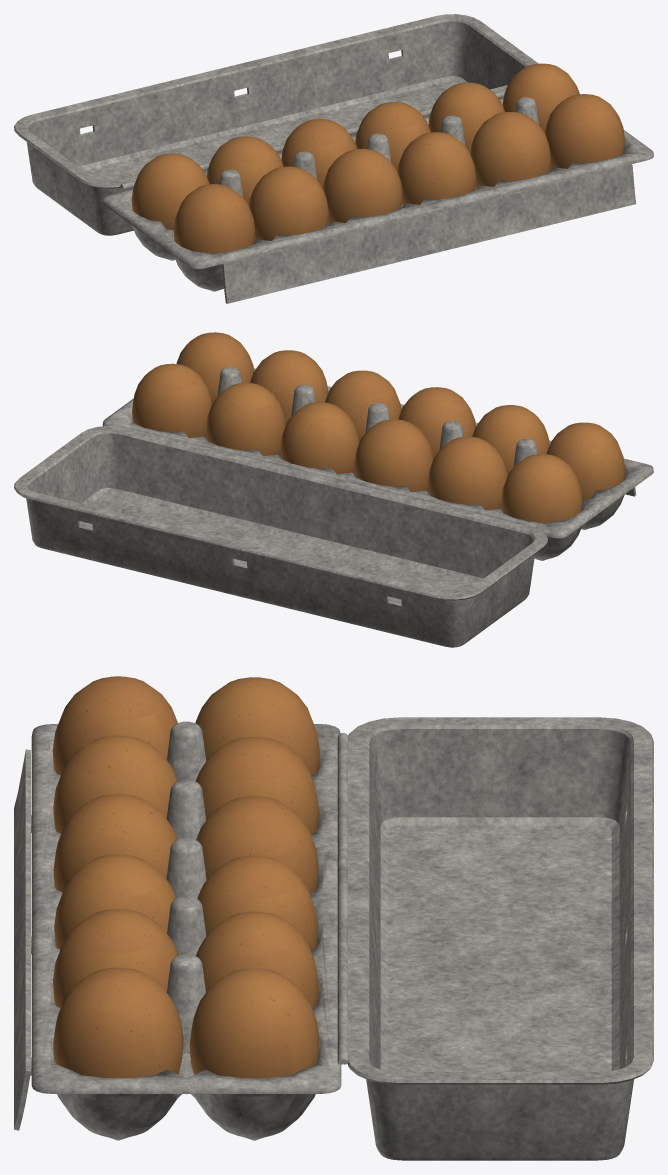
Rendered from ovos.glb.
3 renders of one model, top to bottom at view 1: azimuth 30°, elevation 25°; view 2: azimuth 150°, elevation 25°; view 3: azimuth 270°, elevation 25°, orthographic. The views are drawn at different scales.
Parts seen in each view (by area): view 1: Front locking flap, Egg (brown); view 2: Front locking flap, Egg (brown); view 3: Front locking flap, Egg (brown).
Part boxes in pixels (x1,y1,x2,y2): Front locking flap: (14, 14, 653, 303); Egg (brown): (131, 63, 624, 253); Front locking flap: (14, 366, 653, 647); Egg (brown): (132, 332, 624, 522); Front locking flap: (14, 717, 653, 1160); Egg (brown): (52, 676, 319, 1077).
Bounding box in the file's own units: 0.2916 × 0.0629 × 0.2163.
Materials: 2 (2 with a texture image).
